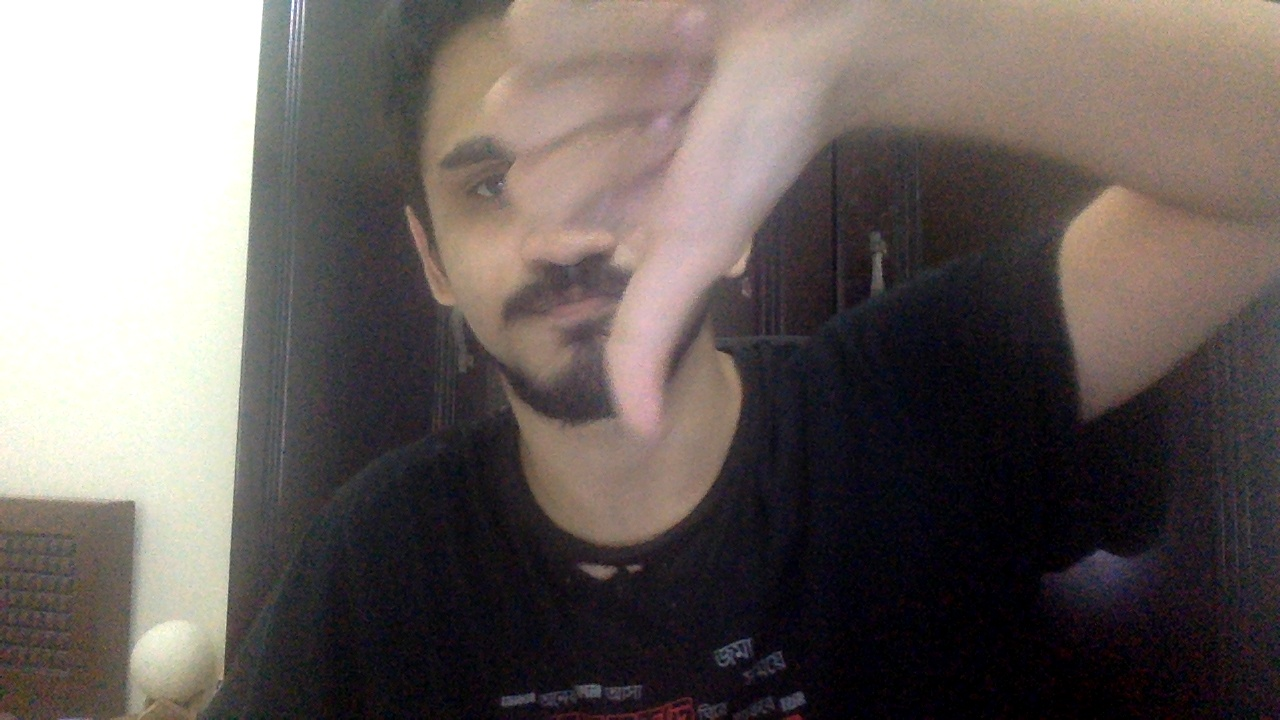bad: (485, 2, 847, 437)
